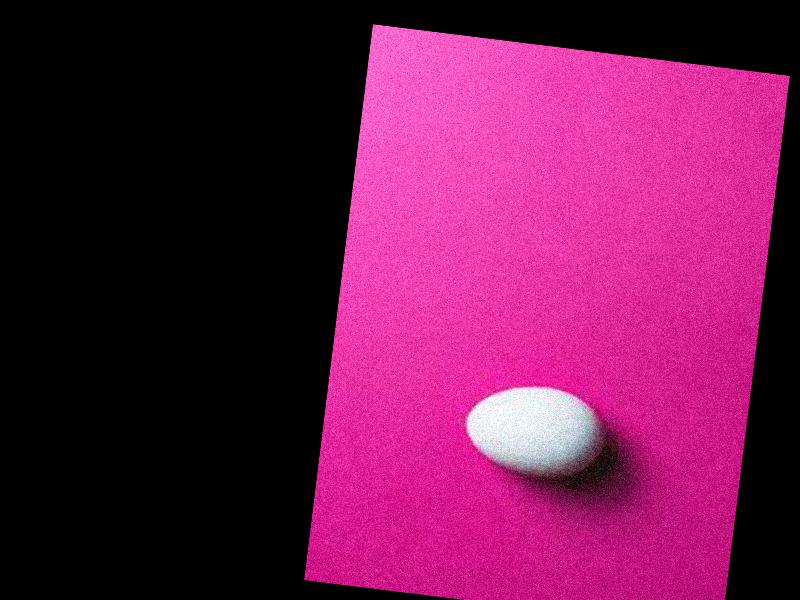Eggs: (460, 377, 608, 483)
